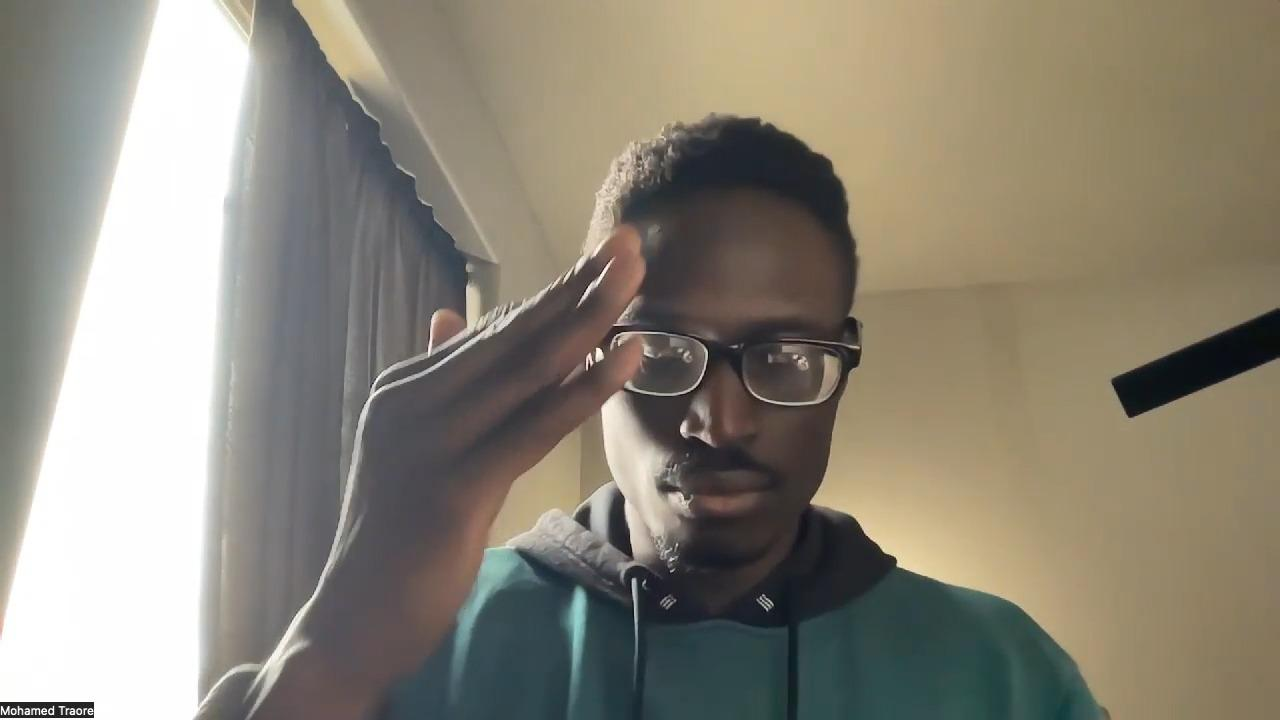Paper: (302, 225, 650, 668)
